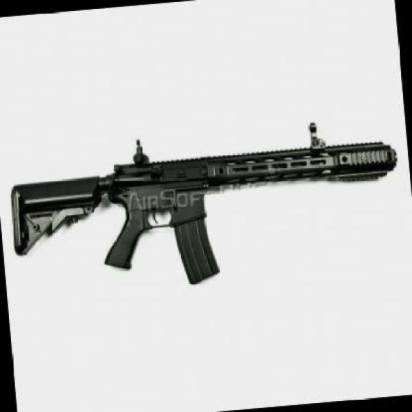Gun: (2, 120, 407, 324)
